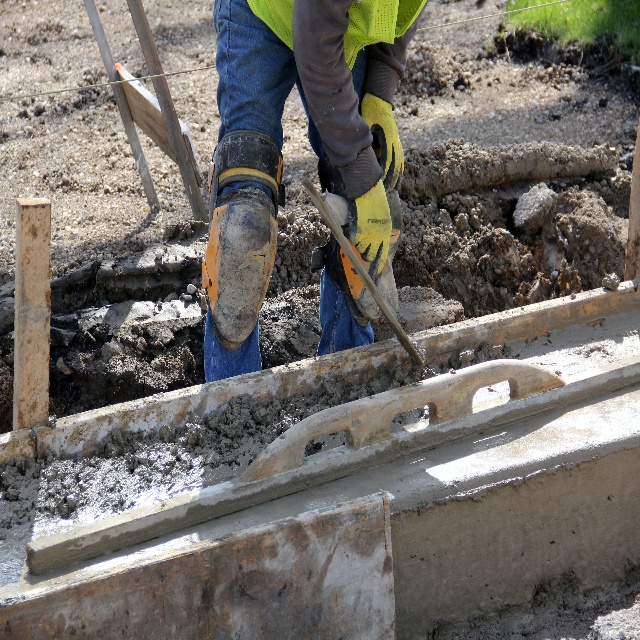Guantes: (360, 91, 406, 197), (347, 176, 392, 282)
